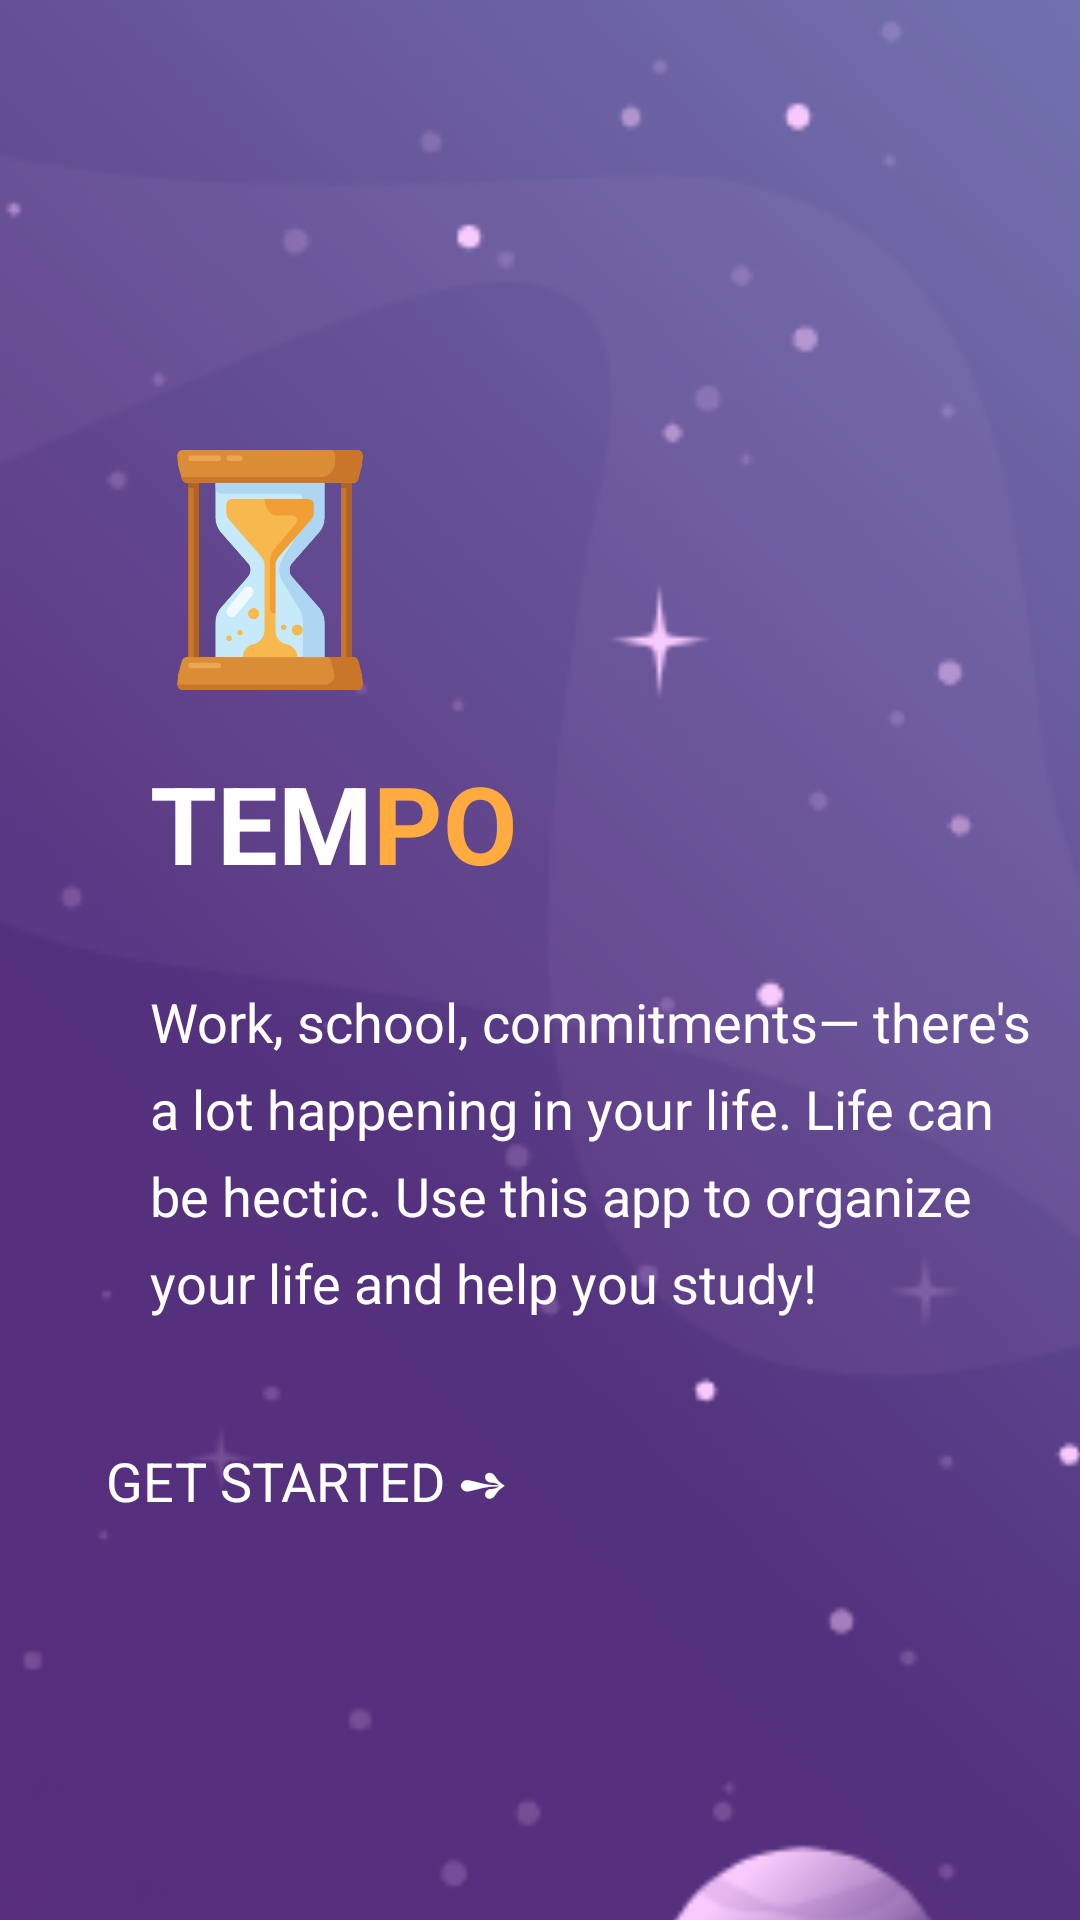

Icon click points for this 1080w x 1920h phone screenshot, format (x=x, y=y):
hourglass: (x=270, y=570)
